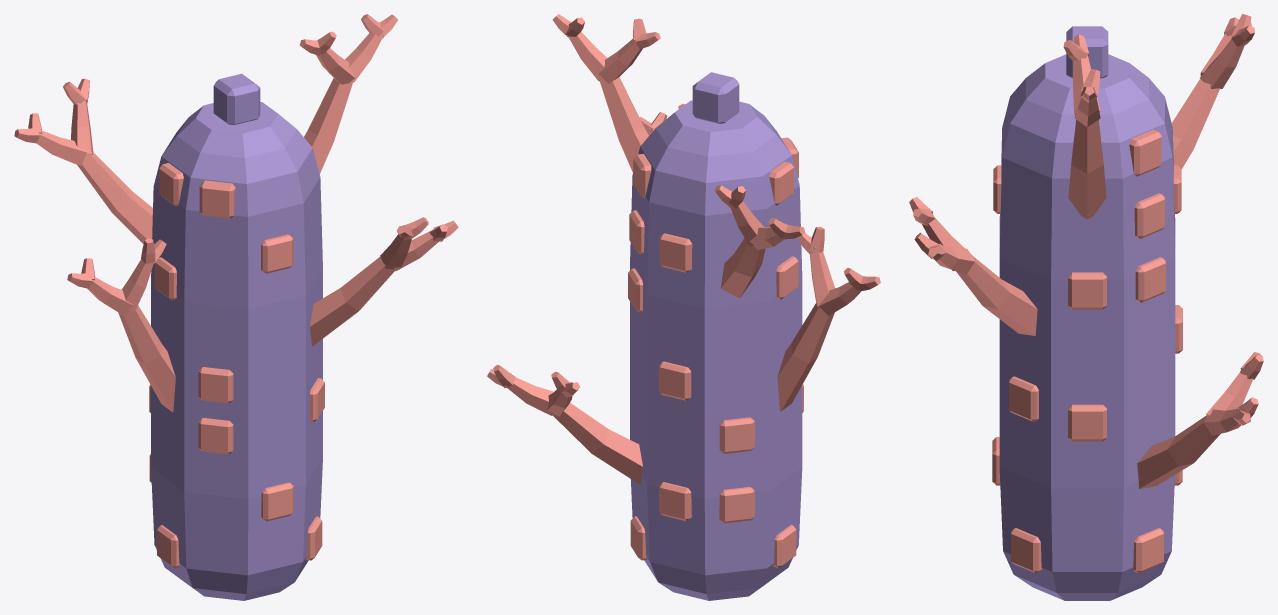
The model's file is UnderwaterCoralCucumber.fbx.
The picture shows the model from 3 angles, left to right: view 1: azimuth 30°, elevation 25°; view 2: azimuth 150°, elevation 25°; view 3: azimuth 270°, elevation 25°; orthographic projection. The views are drawn at different scales.
Visible parts, largest first — view 1: UnderwaterCoralCucumber.Body, UnderwaterCoralCucumber.Arms, UnderwaterCoralCucumber.Studs; view 2: UnderwaterCoralCucumber.Body, UnderwaterCoralCucumber.Arms, UnderwaterCoralCucumber.Studs; view 3: UnderwaterCoralCucumber.Body, UnderwaterCoralCucumber.Arms, UnderwaterCoralCucumber.Studs.
Boxes of the visible parts, x1,y1,x2,y2 form: UnderwaterCoralCucumber.Body: (151, 73, 322, 600); UnderwaterCoralCucumber.Arms: (14, 14, 458, 412); UnderwaterCoralCucumber.Studs: (149, 163, 324, 567); UnderwaterCoralCucumber.Body: (630, 72, 802, 600); UnderwaterCoralCucumber.Arms: (487, 14, 880, 485); UnderwaterCoralCucumber.Studs: (628, 137, 803, 567); UnderwaterCoralCucumber.Body: (999, 26, 1175, 600); UnderwaterCoralCucumber.Arms: (909, 14, 1263, 488); UnderwaterCoralCucumber.Studs: (992, 129, 1182, 573).
Bounding box in the file's own units: 2.97 × 4.6 × 2.53.
